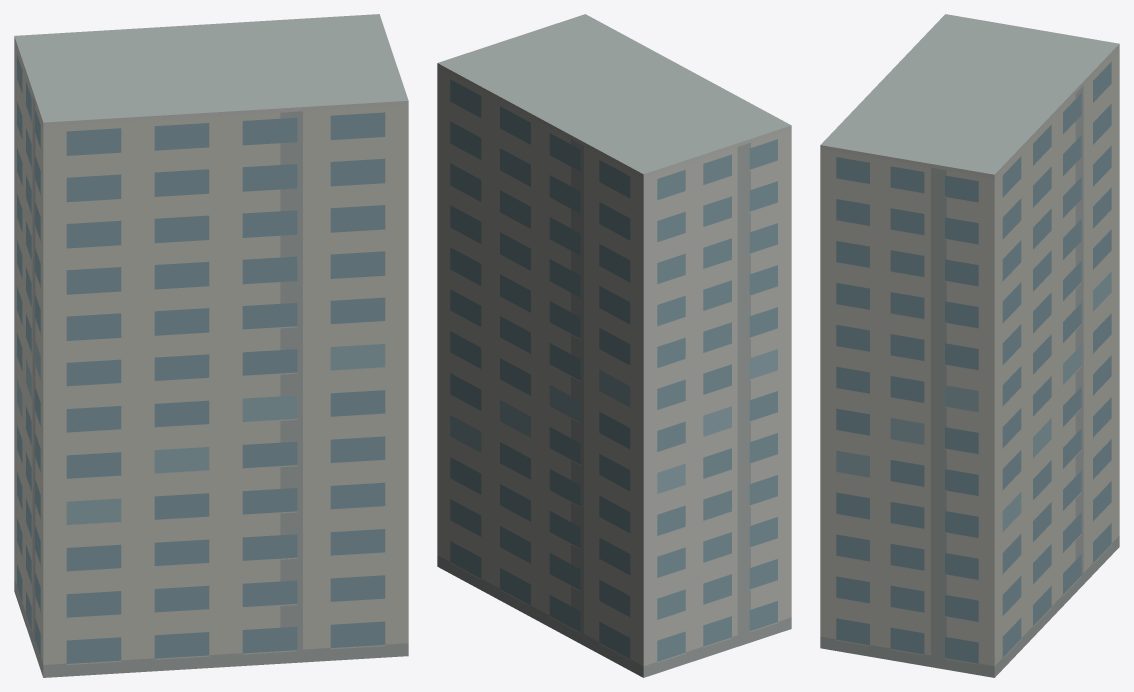
Rendered from residential-e9b93d86-ccee-46e4-bce1-142584bc2910.glb.
3 renders of one model, left to right at view 1: azimuth 30°, elevation 25°; view 2: azimuth 150°, elevation 25°; view 3: azimuth 270°, elevation 25°, orthographic. The views are drawn at different scales.
Visible parts, largest first — view 1: residential-e9b93d86-ccee-46e4-bce1-142584bc2910.tmp; view 2: residential-e9b93d86-ccee-46e4-bce1-142584bc2910.tmp; view 3: residential-e9b93d86-ccee-46e4-bce1-142584bc2910.tmp.
Part boxes in pixels (box(x1,y1,x2,y2)): residential-e9b93d86-ccee-46e4-bce1-142584bc2910.tmp: box(14, 14, 408, 677); residential-e9b93d86-ccee-46e4-bce1-142584bc2910.tmp: box(437, 14, 791, 677); residential-e9b93d86-ccee-46e4-bce1-142584bc2910.tmp: box(820, 14, 1119, 677).
Bounding box in the file's own units: 21.92 × 32 × 17.25.
